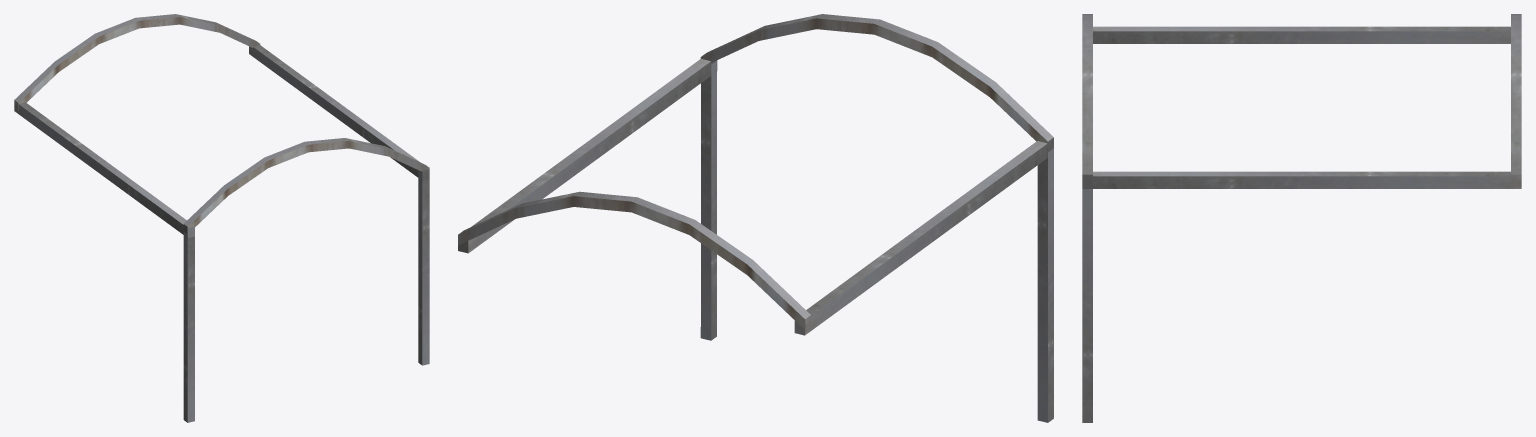
The model's file is TelhadoEntradaPredio_Estrutura.FBX.
3 renders of one model, left to right at view 1: azimuth 30°, elevation 25°; view 2: azimuth 150°, elevation 25°; view 3: azimuth 270°, elevation 25°, orthographic. The views are drawn at different scales.
Parts seen in each view (by area): view 1: TelhadoEntradaPredio_Estrutura; view 2: TelhadoEntradaPredio_Estrutura; view 3: TelhadoEntradaPredio_Estrutura.
Part boxes in pixels (x1,y1,x2,y2): TelhadoEntradaPredio_Estrutura: (14,14,429,422); TelhadoEntradaPredio_Estrutura: (458,14,1053,422); TelhadoEntradaPredio_Estrutura: (1082,14,1521,422).
Bounding box in the file's own units: 403 × 396 × 500.
1 material, 1 textured.
